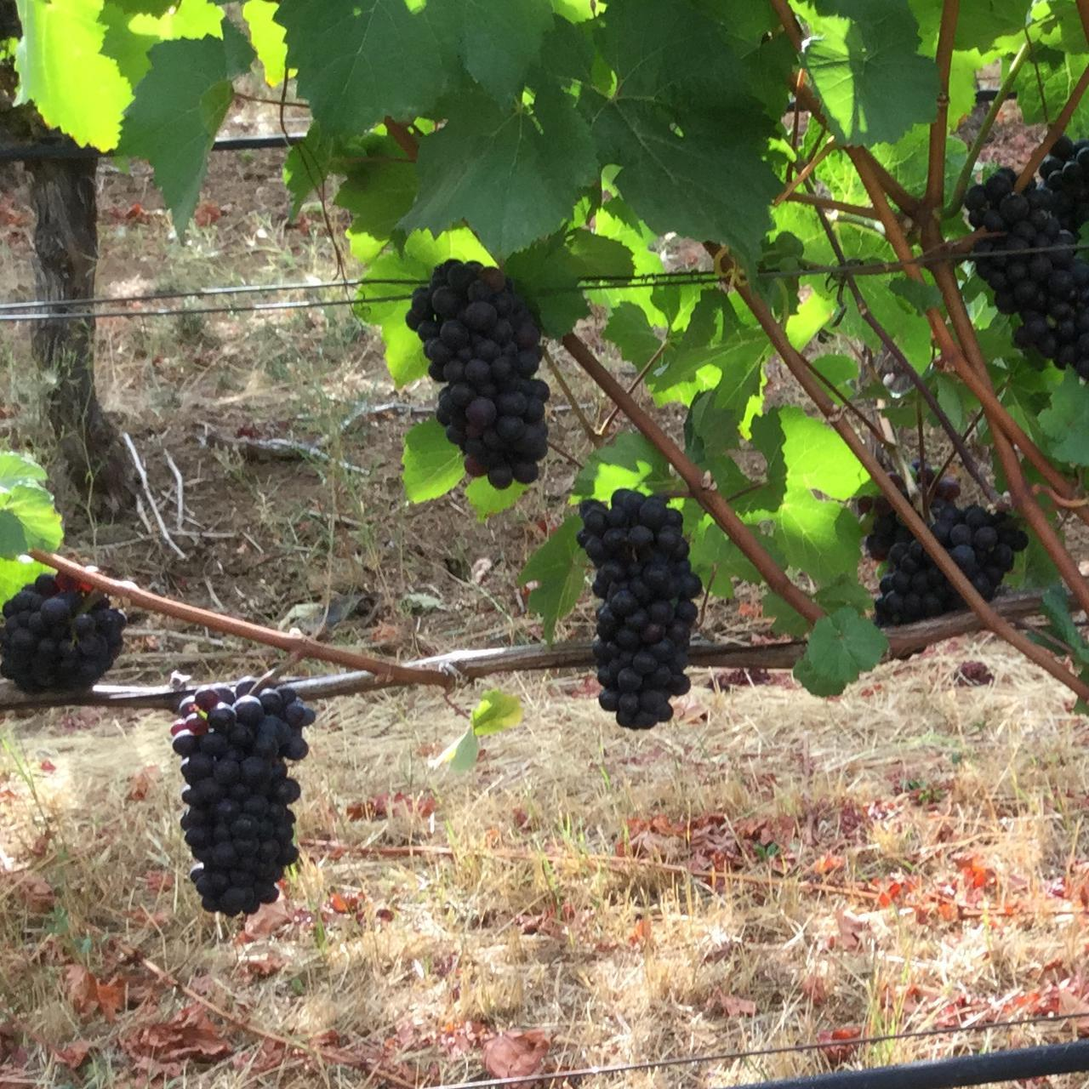Grape Ripe: (814, 430, 1047, 638), (408, 234, 570, 526), (170, 656, 334, 941), (561, 464, 702, 751), (936, 168, 1089, 420), (0, 532, 141, 708)
